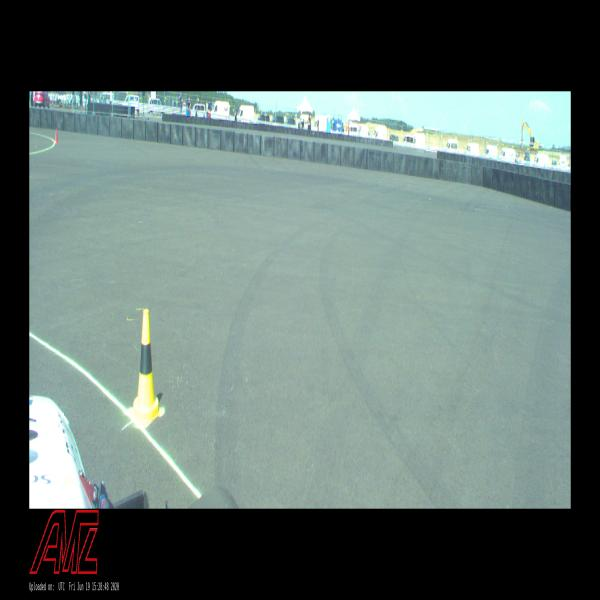unknown_cone: (55, 128, 58, 144)
yellow_cone: (131, 309, 162, 425)
